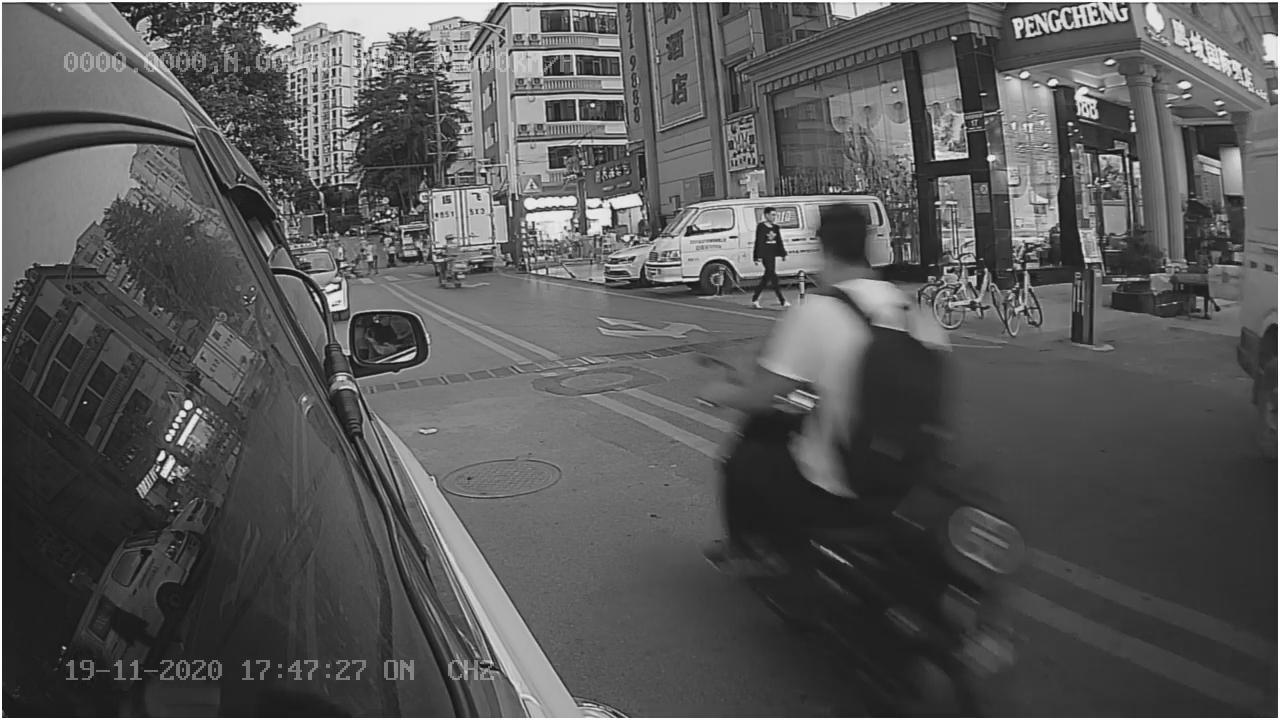person: (774, 208, 951, 483)
